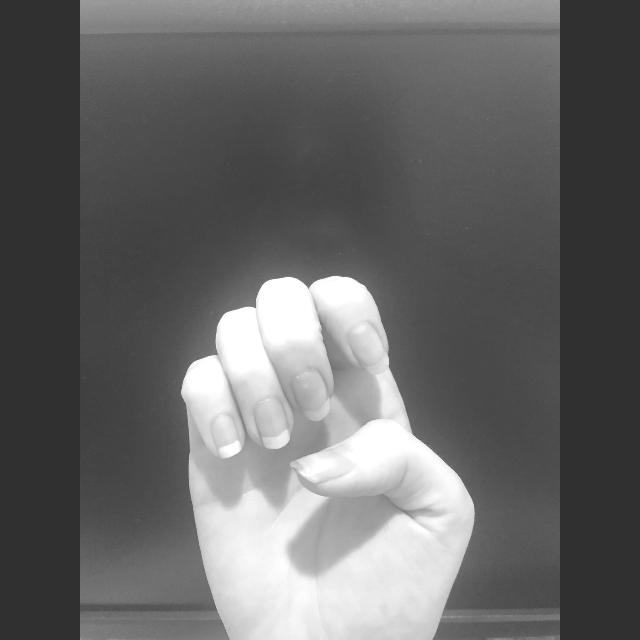E: (172, 270, 480, 640)
